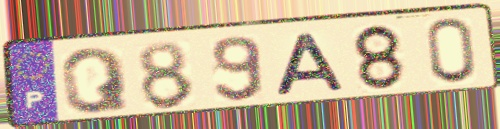0: (422, 16, 479, 88)
8: (135, 40, 197, 111), (350, 21, 409, 94)
9: (208, 34, 264, 104)
A: (273, 31, 349, 99)
Q: (58, 45, 133, 116)
